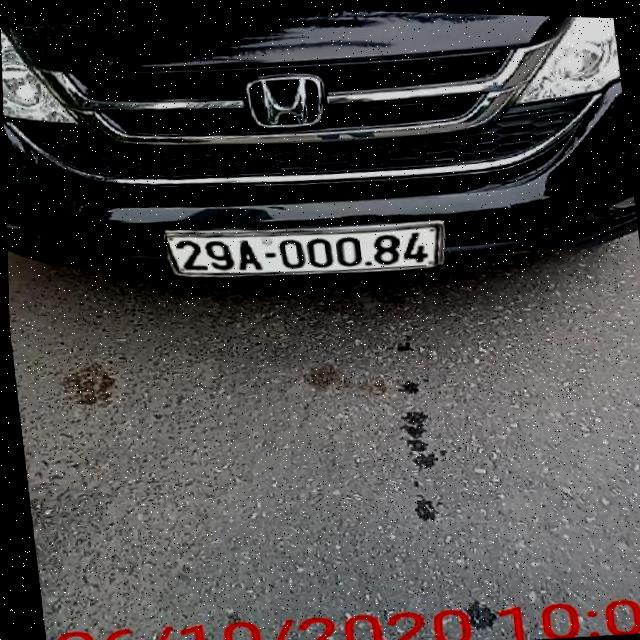car: (0, 2, 640, 310)
plate: (157, 209, 453, 288)
